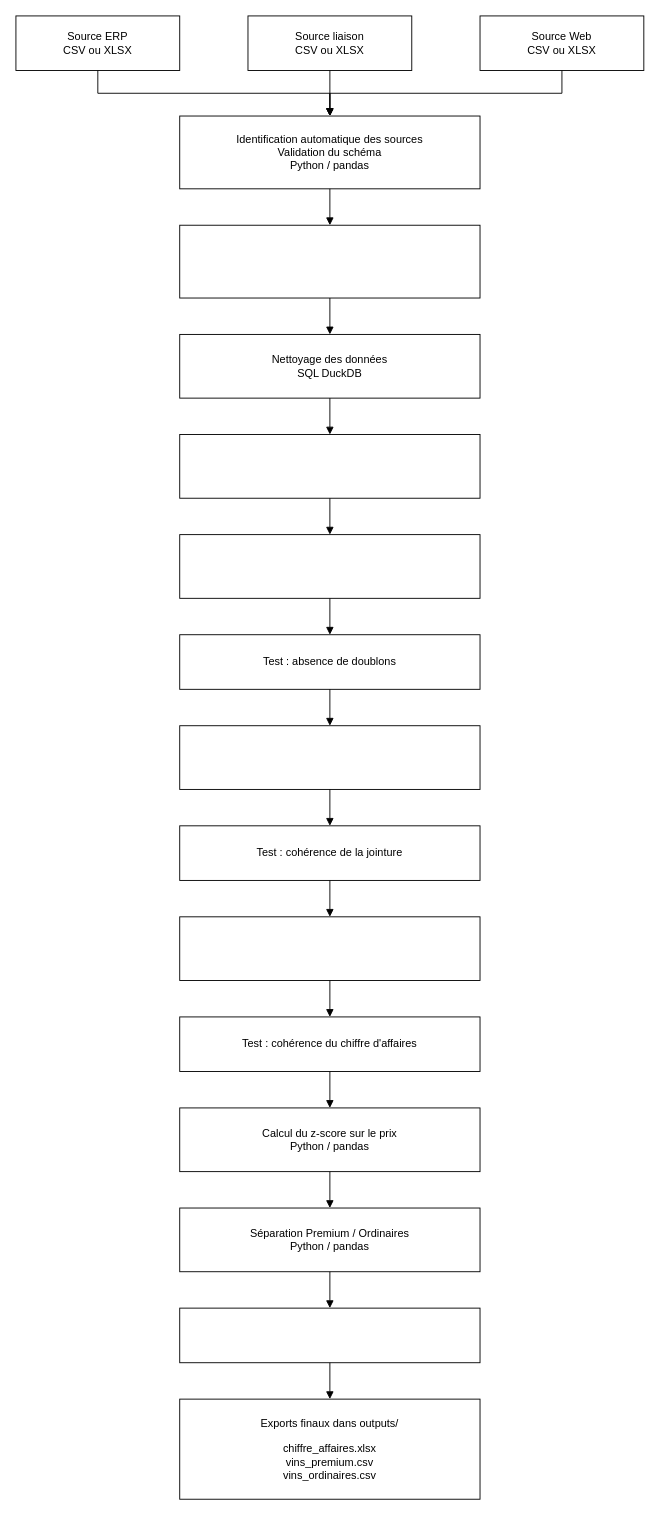
Image size: 660x1515. Some labels were removed from this diagram. The centre of each missing label's shape, as x and y in pixels:
Calcul du chiffre d'affaires SQL DuckDB: the point at 329,948
Dédoublonnage SQL DuckDB: the point at 329,566
Fusion ERP + liaison + Web SQL DuckDB: the point at 329,757
Préparation des sources erp.csv / liaison.csv / web.csv Python / pandas: the point at 329,261
Test : cohérence du z-score: the point at 329,1335
Test : valeurs manquantes sur les enregistrements exploitables: the point at 329,466
